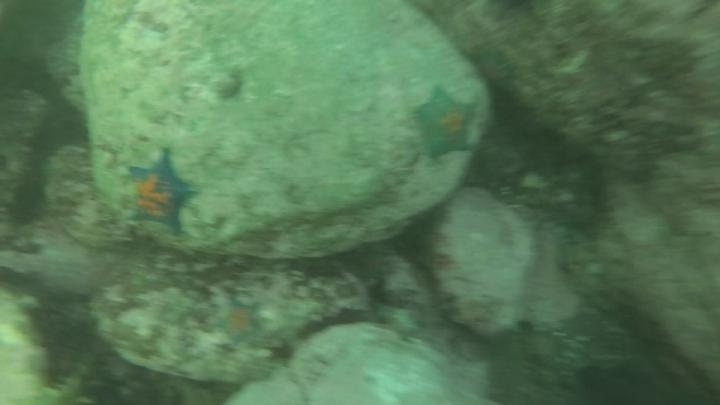holothurian: (45, 355, 107, 404)
starfish: (121, 147, 201, 238), (409, 83, 481, 164), (206, 293, 268, 350), (465, 43, 519, 93), (346, 245, 397, 284)
